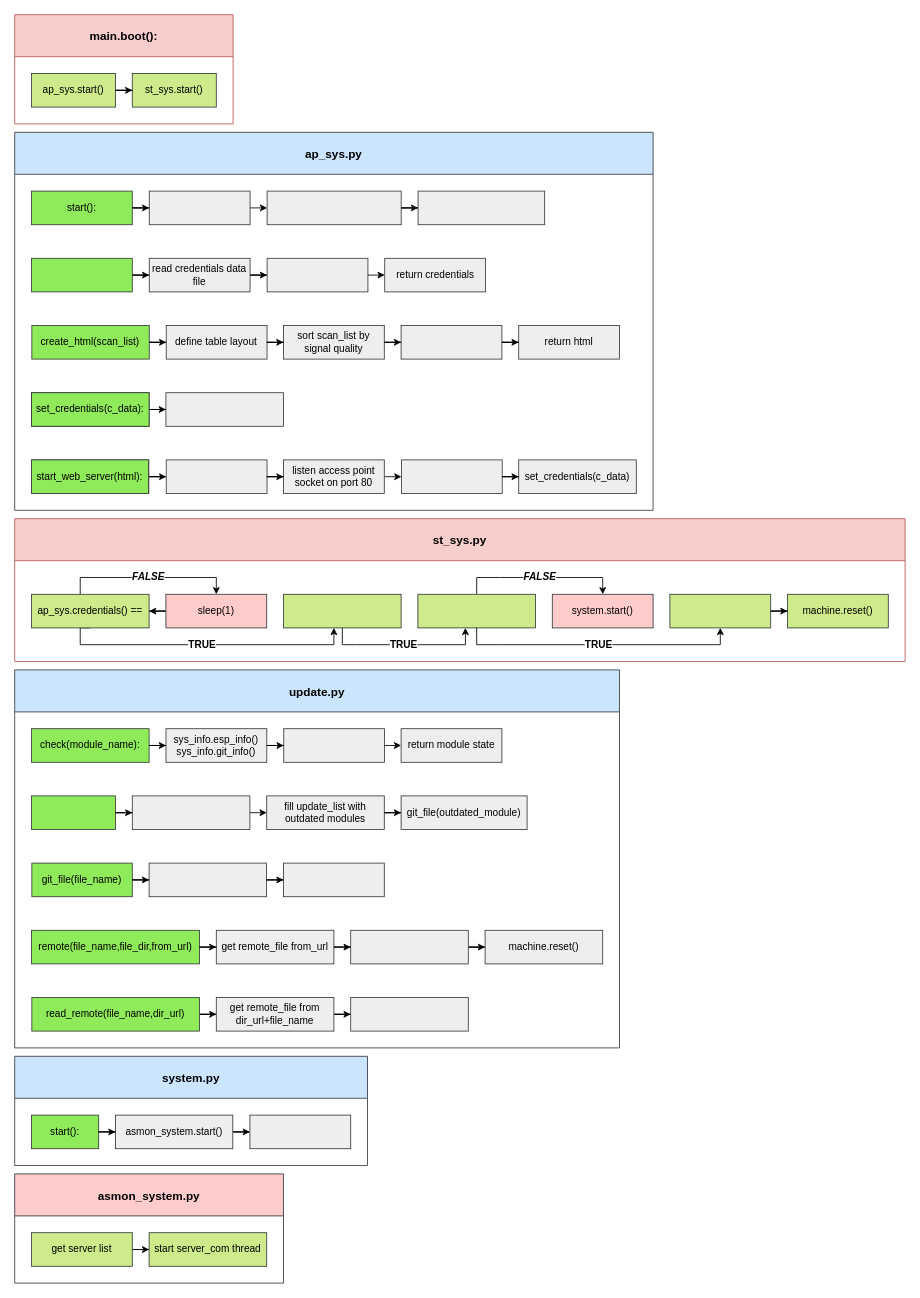
Some shapes in this 920 by 1298 pixel diagram are drawn without their labels. The shapes that lost their labels are listed below. From the top down, each one's centre as x and y in pixels, then its label:
At point 199,207: "configurate station".
At point 333,207: "create_html(station.scan())".
At point 481,207: "start_web_server(html)".
At point 81,274: "credentials():".
At point 317,274: "handle data".
At point 451,342: "fill table with scan_list".
At point 224,409: "save credentials to file system".
At point 216,476: "configurate access point".
At point 451,476: "wait for wifi credentials".
At point 342,610: "connect(ssid,psw) ==".
At point 476,610: "update.check('sys_info')[0] ==".
At point 720,610: "update.system()".
At point 334,745: "compare esp_info != git_info".
At point 73,812: "system():".
At point 190,812: "esp_sys != git_sys".
At point 207,879: "get outdated_file from git_url+file_name".
At point 333,879: "write file_name to structure folder".
At point 409,946: "write remote_file to file_dir".
At point 409,1014: "return remote_file".
At point 300,1131: "main_system.start()".
